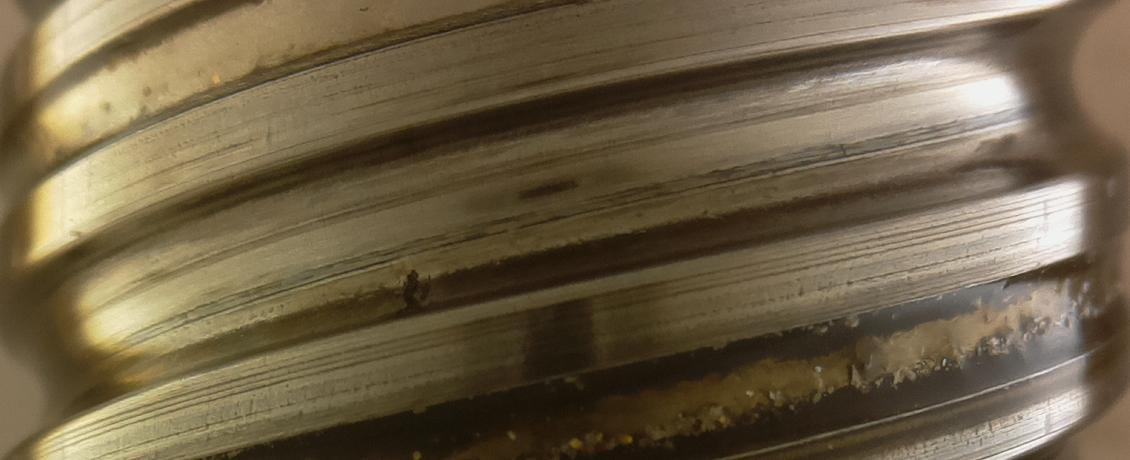pitting: (401, 268, 432, 314)
